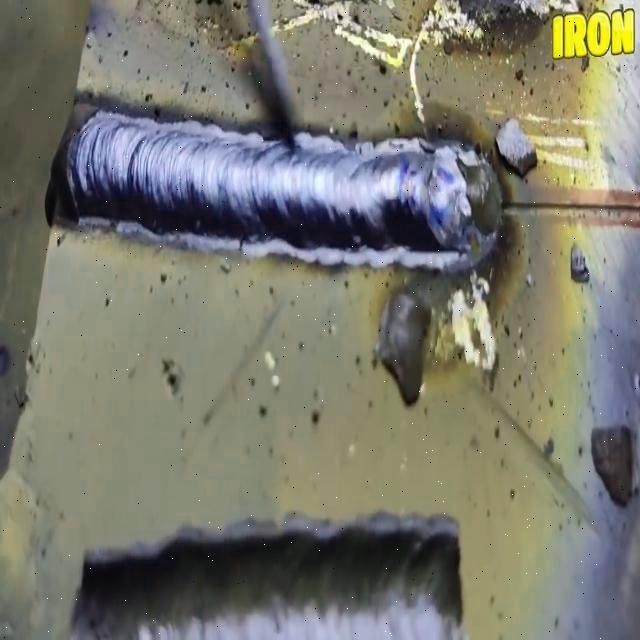Good Welding: (63, 91, 506, 258)
